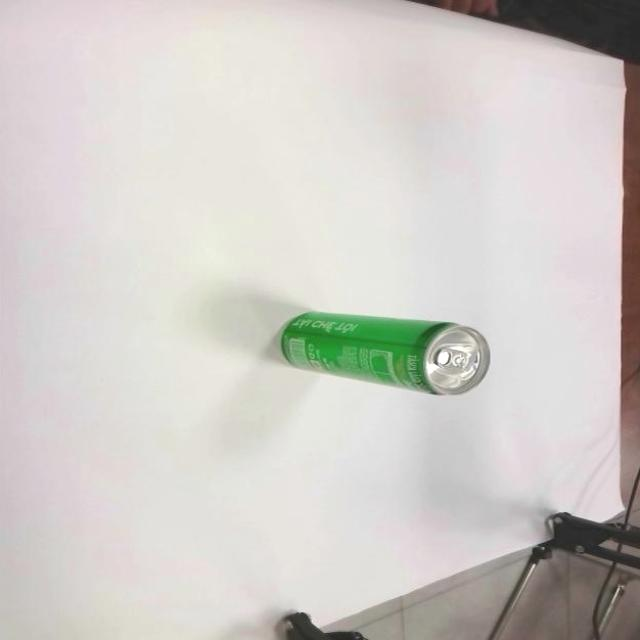debris: (278, 310, 491, 396)
